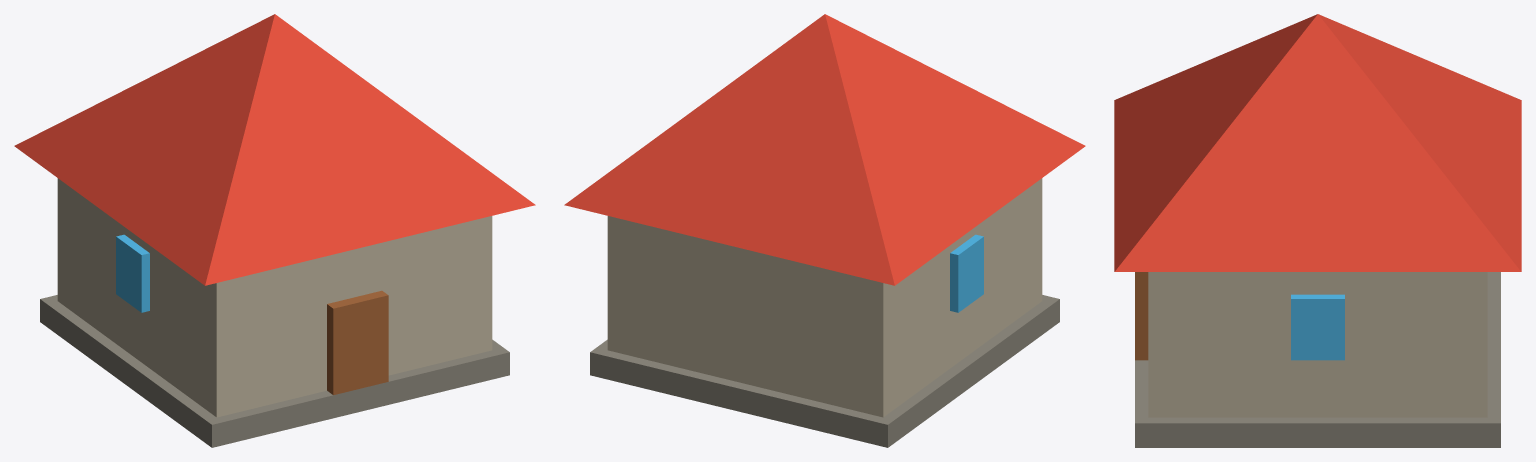
The model's file is house_t1_v3.glb.
The picture shows the model from 3 angles, left to right: view 1: azimuth 30°, elevation 25°; view 2: azimuth 150°, elevation 25°; view 3: azimuth 270°, elevation 25°; orthographic projection. The views are drawn at different scales.
Visible parts, largest first — view 1: house_t1_v3; view 2: house_t1_v3; view 3: house_t1_v3.
Boxes of the visible parts, x1=… form: house_t1_v3: x1=14, y1=14, x2=535, y2=447; house_t1_v3: x1=564, y1=14, x2=1085, y2=447; house_t1_v3: x1=1114, y1=14, x2=1521, y2=447.
Bounding box in the file's own units: 0.6 × 0.58 × 0.6.
1 material, 1 textured.
